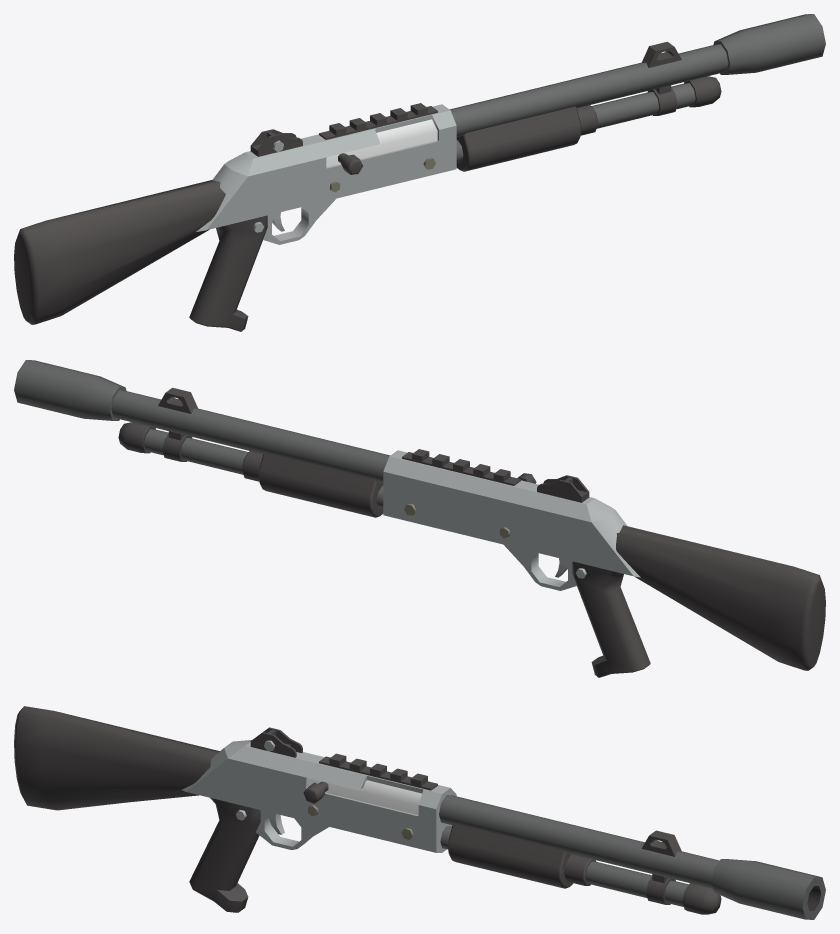
Rendered from shotgun_001.glb.
The picture shows the model from 3 angles, top to bottom: view 1: azimuth 30°, elevation 25°; view 2: azimuth 150°, elevation 25°; view 3: azimuth 330°, elevation 25°; orthographic projection.
Visible parts, largest first — view 1: shotgun_001, shotgun_handguard_001; view 2: shotgun_001, shotgun_handguard_001; view 3: shotgun_001, shotgun_handguard_001.
Part boxes in pixels (<box>): shotgun_001: <box>14,14,825,331</box>; shotgun_handguard_001: <box>456,105,597,171</box>; shotgun_001: <box>14,360,825,677</box>; shotgun_handguard_001: <box>242,451,383,517</box>; shotgun_001: <box>14,706,825,919</box>; shotgun_handguard_001: <box>448,823,596,888</box>.
Bounding box in the file's own units: 1.73 × 0.3879 × 0.1316.
1 material, 1 textured.
